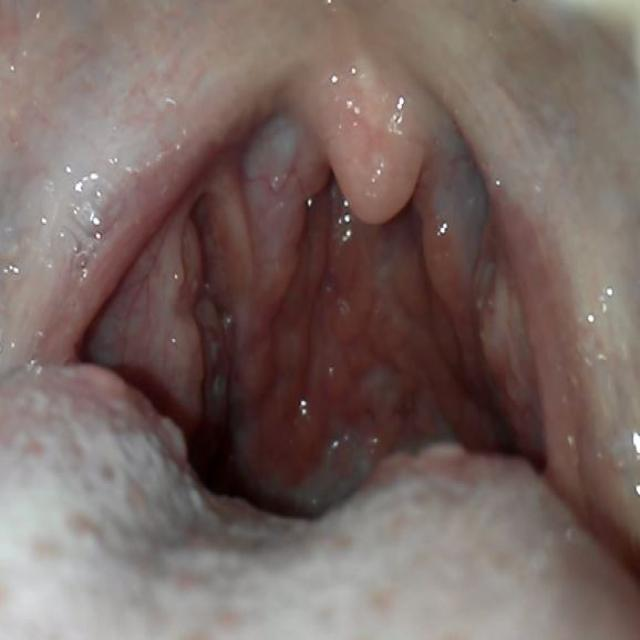Non Pharyngitis: (80, 187, 272, 503), (434, 136, 567, 457)
